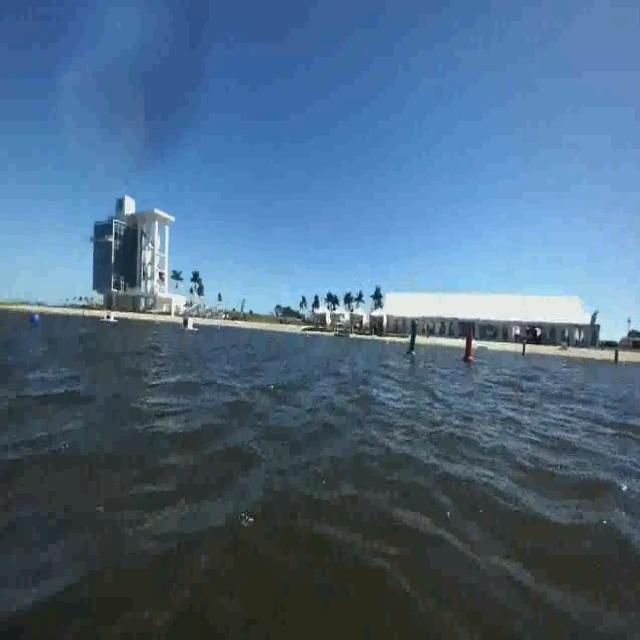green-column-buoy: (407, 320, 420, 358)
red-column-buoy: (464, 327, 478, 365)
